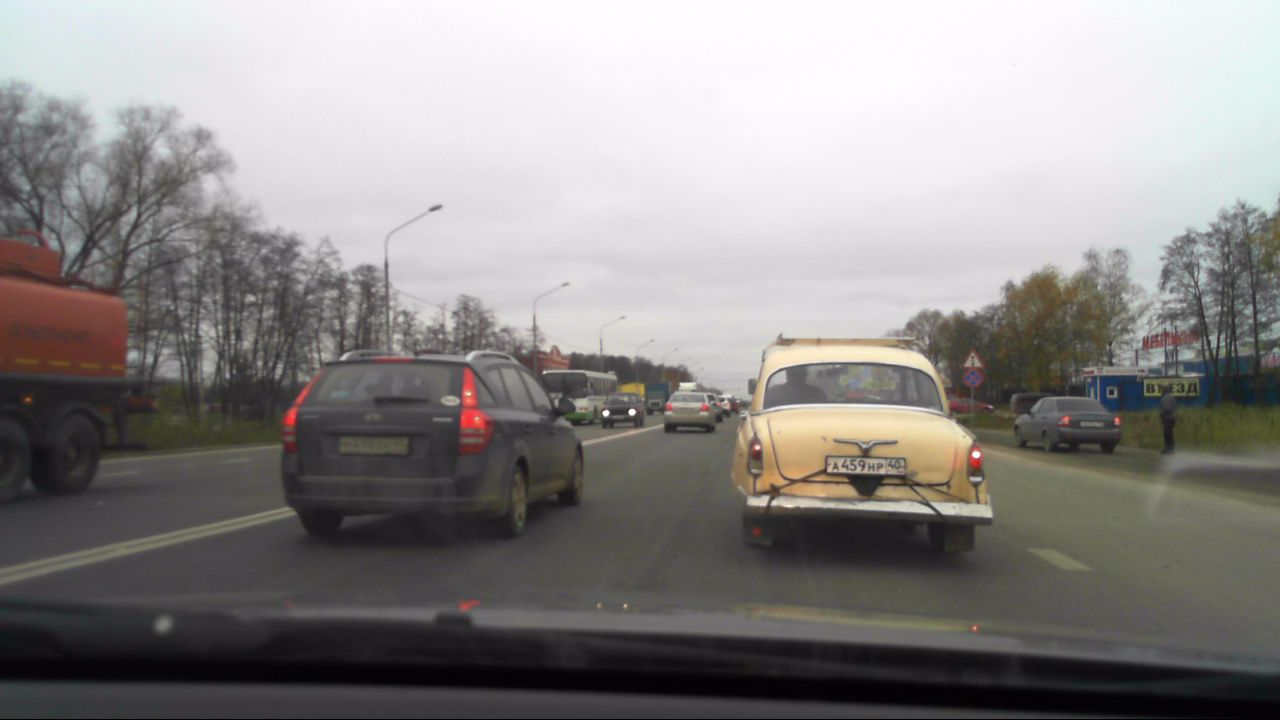No Parking: (961, 368, 984, 389)
